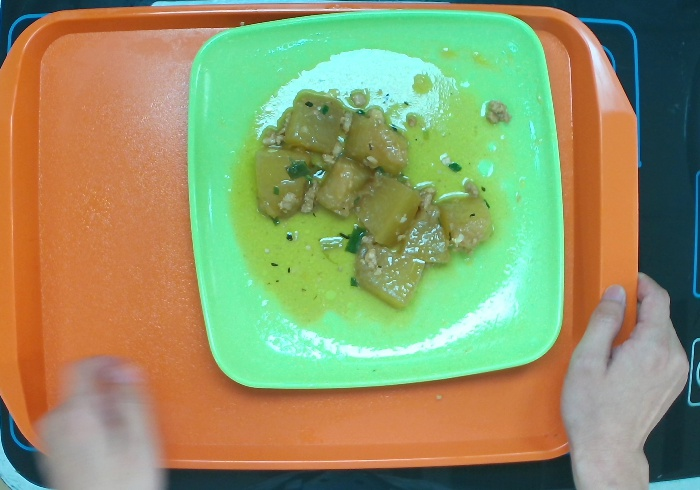ZNLD-Lv_Fang_Pan: (183, 7, 568, 392)
